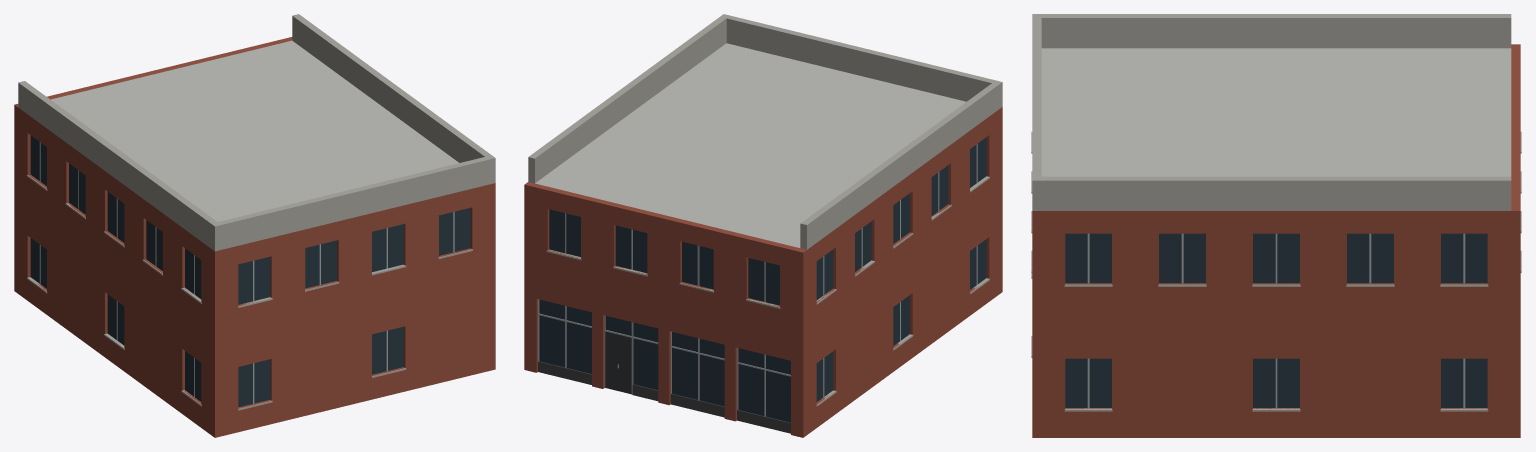
File: bld_t2_mixed.glb
3 renders of one model, left to right at view 1: azimuth 30°, elevation 25°; view 2: azimuth 150°, elevation 25°; view 3: azimuth 270°, elevation 25°, orthographic. The views are drawn at different scales.
Visible parts, largest first — view 1: bld_t2_mixed-col; view 2: bld_t2_mixed-col; view 3: bld_t2_mixed-col.
Boxes of the visible parts, box(x1,y1,x2,y2) form: bld_t2_mixed-col: box(14, 14, 495, 437); bld_t2_mixed-col: box(524, 14, 1002, 437); bld_t2_mixed-col: box(1031, 14, 1521, 437).
Size of the model in its own units: 12.66 by 9.07 by 15.66.
